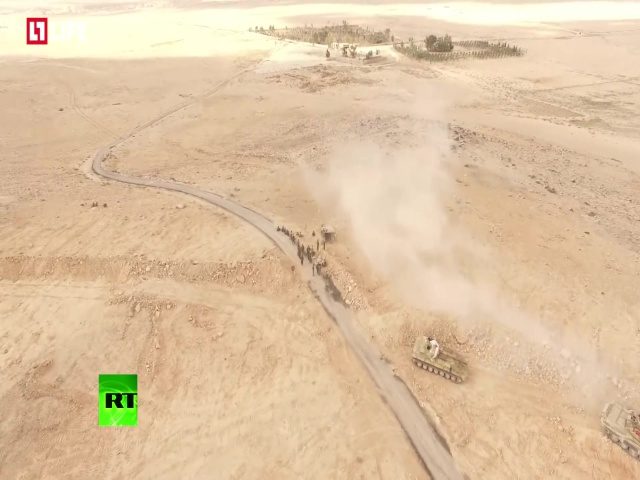vehicle: (409, 335, 471, 383), (601, 398, 640, 460)
